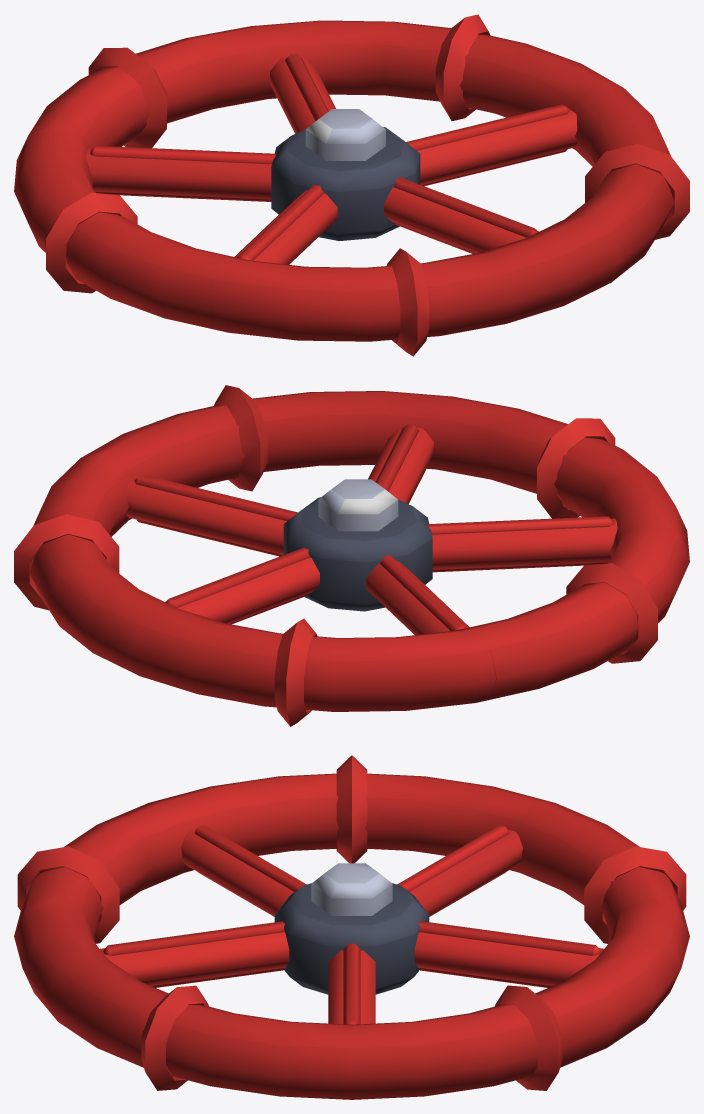
File: SM_Station_FloodValve_Wheel.fbx
The picture shows the model from 3 angles, top to bottom: view 1: azimuth 30°, elevation 25°; view 2: azimuth 150°, elevation 25°; view 3: azimuth 270°, elevation 25°; orthographic projection.
Parts seen in each view (by area): view 1: SM_Station_FloodValve_Wheel; view 2: SM_Station_FloodValve_Wheel; view 3: SM_Station_FloodValve_Wheel.
Boxes of the visible parts, box(x1,y1,x2,y2) form: SM_Station_FloodValve_Wheel: box(14, 14, 689, 356); SM_Station_FloodValve_Wheel: box(14, 385, 689, 726); SM_Station_FloodValve_Wheel: box(14, 755, 689, 1099).
Bounding box in the file's own units: 45.13 × 8.26 × 44.24.
